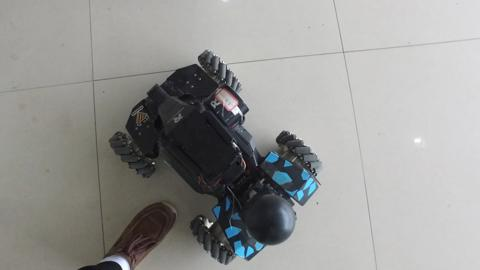chariot: (84, 46, 328, 262)
